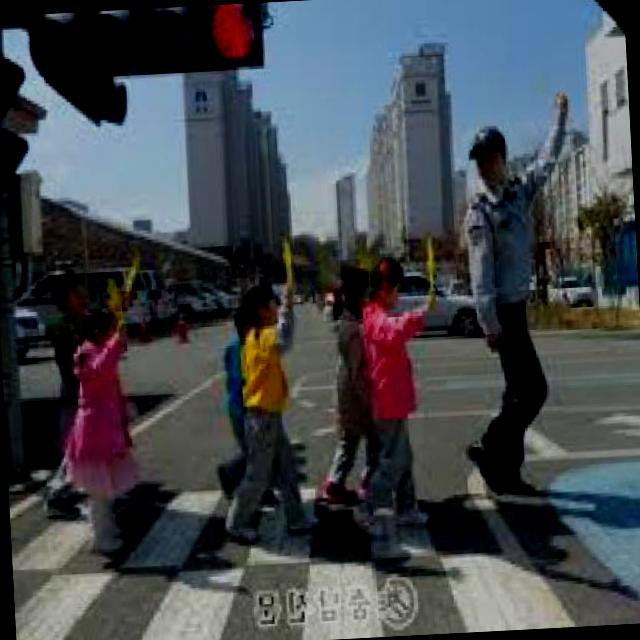Person: (448, 92, 590, 507), (353, 254, 447, 558), (213, 269, 314, 542), (68, 296, 142, 553), (29, 270, 102, 520), (312, 260, 381, 503)
